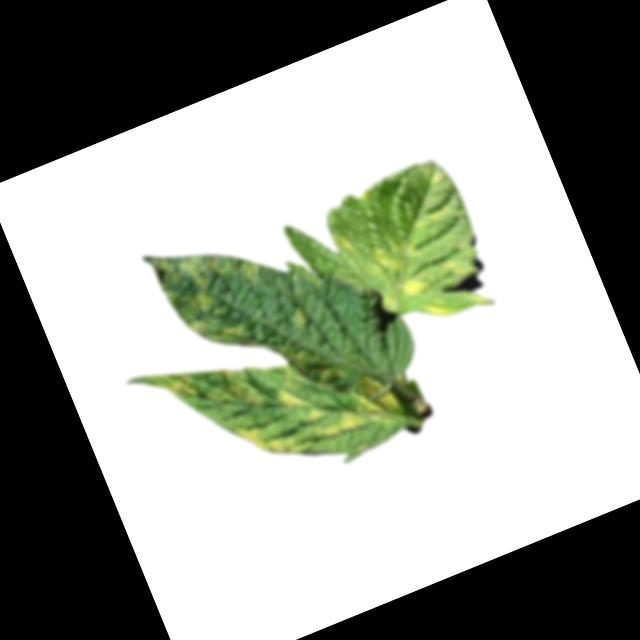Leaf_Mold: (148, 214, 292, 365), (309, 372, 406, 446), (358, 226, 436, 311), (231, 408, 297, 470), (219, 360, 265, 415), (162, 367, 203, 408), (441, 247, 481, 285), (273, 378, 309, 414), (329, 224, 361, 257), (288, 301, 319, 331)
